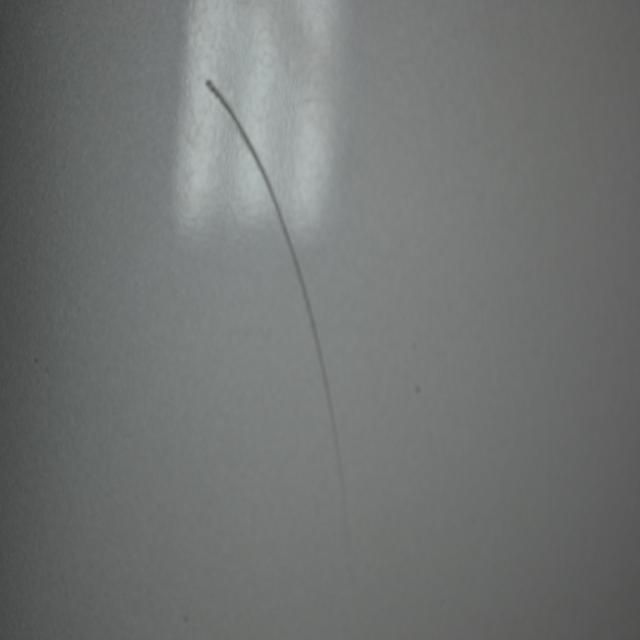dirt: (412, 375, 426, 400)
scratch: (198, 71, 351, 541)
